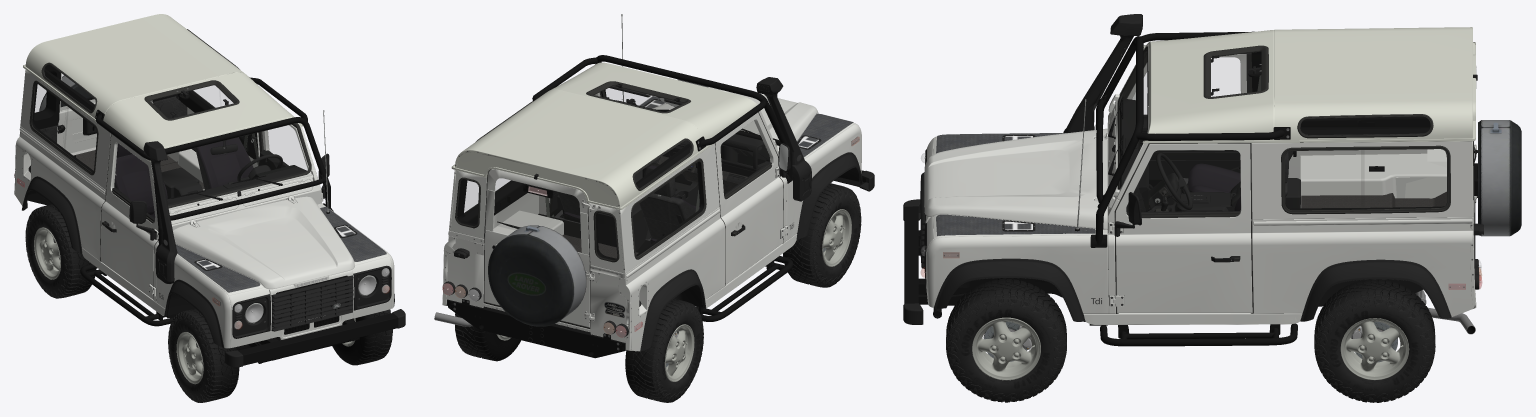
The model's file is defender.glb.
3 renders of one model, left to right at view 1: azimuth 30°, elevation 25°; view 2: azimuth 150°, elevation 25°; view 3: azimuth 270°, elevation 25°, orthographic. The views are drawn at different scales.
Parts seen in each view (by area): view 1: Defender:TrunkInterior_XYZ_TrunkInterior_XYZ_Customisable_Bo (×6), Defender:Roof_XY_Roof_XY_Shared_Glass_Mat_Roof_Color_0, wheel1:Wheel_Stock_LR_Defender_97_LOD0_Wheel_Stock_LR_Defend, polySurface10330_RAM_1500TRX_2021_Wheel1A_3D_3DWheel2A_Mater, Defender:Interior_XYZ_Interior_XYZ_Shared_LeatherSmoothBlack (×2), Defender:FendersFront_XY_FendersFront_XY_Shared_PlasticRough, Defender:Roof_XY_Roof_XY_Shared_Glass_Mat_Glass_Y_Mat1_0, Defender:Headlights_XY_Headlights_XY_Customisable_BodyColour (×2), Defender:SuspensionRear_XYZ_SuspensionRear_XYZ_LR_Defender_9; view 2: Defender:TrunkInterior_XYZ_TrunkInterior_XYZ_Customisable_Bo (×7), Defender:Roof_XY_Roof_XY_Shared_Glass_Mat_Roof_Color_0, wheel1:Wheel_Stock_LR_Defender_97_LOD0_Wheel_Stock_LR_Defend, polySurface10330_RAM_1500TRX_2021_Wheel1A_3D_3DWheel2A_Mater, Defender:Trunk_XY_Trunk_XY_Shared_TitaniumSatin_Mat_TyreCove, Defender:Roof_XY_Roof_XY_Shared_Glass_Mat_Glass_Y_Mat1_0, Defender:Interior_XYZ_Interior_XYZ_Shared_LeatherSmoothBlack (×2), Defender:FendersFront_XY_FendersFront_XY_Shared_PlasticRough, Defender:Roof_XY_Roof_XY_Shared_Glass_Mat_Taillights_Mat1_0, Defender:Roof_XY_Roof_XY_Shared_Glass_Mat_TaillightsGlass_Ma; view 3: Defender:TrunkInterior_XYZ_TrunkInterior_XYZ_Customisable_Bo (×5), Defender:Roof_XY_Roof_XY_Shared_Glass_Mat_Roof_Color_0, wheel1:Wheel_Stock_LR_Defender_97_LOD0_Wheel_Stock_LR_Defend, polySurface10330_RAM_1500TRX_2021_Wheel1A_3D_3DWheel2A_Mater, Defender:Trunk_XY_Trunk_XY_Shared_TitaniumSatin_Mat_TyreCove, Defender:FendersFront_XY_FendersFront_XY_Shared_PlasticRough, Defender:Interior_XYZ_Interior_XYZ_Shared_LeatherSmoothBlack (×2), Defender:BrakeFL_XYZ_BrakeFL_XYZ_Customisable_BrakesColour_M.
Boxes of the visible parts, x1=… form: Defender:TrunkInterior_XYZ_TrunkInterior_XYZ_Customisable_Bo (×6): x1=14, y1=29, x2=397, y2=365; Defender:Roof_XY_Roof_XY_Shared_Glass_Mat_Roof_Color_0: x1=23, y1=14, x2=303, y2=162; wheel1:Wheel_Stock_LR_Defender_97_LOD0_Wheel_Stock_LR_Defend: x1=14, y1=90, x2=405, y2=384; polySurface10330_RAM_1500TRX_2021_Wheel1A_3D_3DWheel2A_Mater: x1=25, y1=204, x2=392, y2=402; Defender:Interior_XYZ_Interior_XYZ_Shared_LeatherSmoothBlack (×2): x1=28, y1=137, x2=297, y2=315; Defender:FendersFront_XY_FendersFront_XY_Shared_PlasticRough: x1=175, y1=206, x2=386, y2=292; Defender:Roof_XY_Roof_XY_Shared_Glass_Mat_Glass_Y_Mat1_0: x1=35, y1=75, x2=307, y2=169; Defender:Headlights_XY_Headlights_XY_Customisable_BodyColour (×2): x1=212, y1=268, x2=389, y2=329; Defender:SuspensionRear_XYZ_SuspensionRear_XYZ_LR_Defender_9: x1=284, y1=289, x2=339, y2=334; Defender:TrunkInterior_XYZ_TrunkInterior_XYZ_Customisable_Bo (×7): x1=434, y1=14, x2=865, y2=358; Defender:Roof_XY_Roof_XY_Shared_Glass_Mat_Roof_Color_0: x1=451, y1=62, x2=757, y2=210; wheel1:Wheel_Stock_LR_Defender_97_LOD0_Wheel_Stock_LR_Defend: x1=443, y1=77, x2=874, y2=381; polySurface10330_RAM_1500TRX_2021_Wheel1A_3D_3DWheel2A_Mater: x1=455, y1=183, x2=861, y2=402; Defender:Trunk_XY_Trunk_XY_Shared_TitaniumSatin_Mat_TyreCove: x1=488, y1=225, x2=586, y2=326; Defender:Roof_XY_Roof_XY_Shared_Glass_Mat_Glass_Y_Mat1_0: x1=464, y1=88, x2=762, y2=247; Defender:Interior_XYZ_Interior_XYZ_Shared_LeatherSmoothBlack (×2): x1=646, y1=146, x2=859, y2=307; Defender:FendersFront_XY_FendersFront_XY_Shared_PlasticRough: x1=640, y1=79, x2=853, y2=156; Defender:Roof_XY_Roof_XY_Shared_Glass_Mat_Taillights_Mat1_0: x1=442, y1=186, x2=641, y2=337; Defender:Roof_XY_Roof_XY_Shared_Glass_Mat_TaillightsGlass_Ma: x1=442, y1=187, x2=642, y2=337; Defender:TrunkInterior_XYZ_TrunkInterior_XYZ_Customisable_Bo (×5): x1=904, y1=31, x2=1477, y2=346; Defender:Roof_XY_Roof_XY_Shared_Glass_Mat_Roof_Color_0: x1=1142, y1=27, x2=1476, y2=143; wheel1:Wheel_Stock_LR_Defender_97_LOD0_Wheel_Stock_LR_Defend: x1=903, y1=14, x2=1483, y2=380; polySurface10330_RAM_1500TRX_2021_Wheel1A_3D_3DWheel2A_Mater: x1=946, y1=279, x2=1435, y2=402; Defender:Trunk_XY_Trunk_XY_Shared_TitaniumSatin_Mat_TyreCove: x1=1478, y1=120, x2=1521, y2=236; Defender:FendersFront_XY_FendersFront_XY_Shared_PlasticRough: x1=936, y1=133, x2=1095, y2=235; Defender:Interior_XYZ_Interior_XYZ_Shared_LeatherSmoothBlack (×2): x1=959, y1=140, x2=1423, y2=306; Defender:BrakeFL_XYZ_BrakeFL_XYZ_Customisable_BrakesColour_M: x1=983, y1=321, x2=1397, y2=362.
Size of the model in its own units: 0.0192 by 0.0209 by 0.0399.
29 materials, 28 textured.
